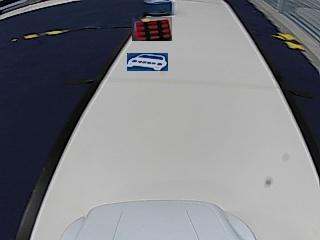prop: (145, 1, 172, 17)
